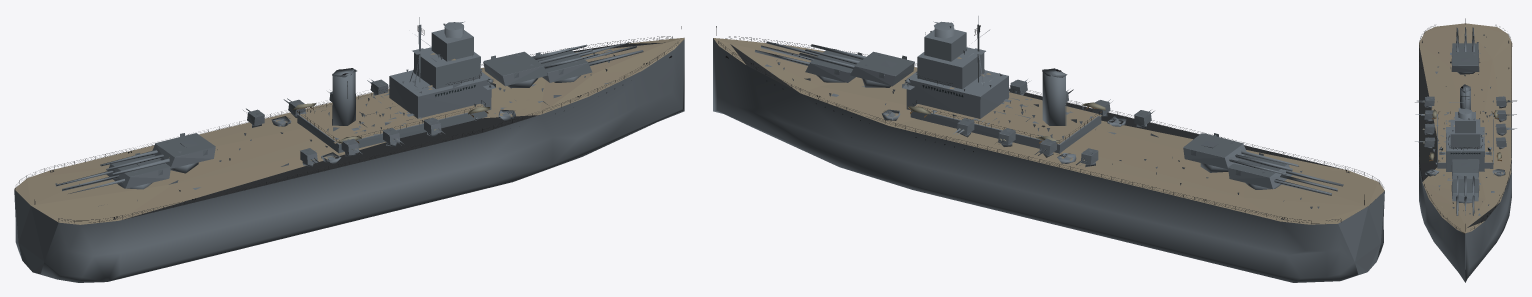
File: tennessee_lod.glb
3 views of the same model, side by side, from view 1: azimuth 30°, elevation 25°; view 2: azimuth 150°, elevation 25°; view 3: azimuth 270°, elevation 25° (orthographic). The views are drawn at different scales.
Parts seen in each view (by area): view 1: tennessee_lod; view 2: tennessee_lod; view 3: tennessee_lod.
Boxes of the visible parts, x1,y1,x2,y2 form: tennessee_lod: [14, 17, 684, 282]; tennessee_lod: [713, 16, 1384, 282]; tennessee_lod: [1415, 18, 1516, 282].
Bounding box in the file's own units: 190 × 45.47 × 38.84.
